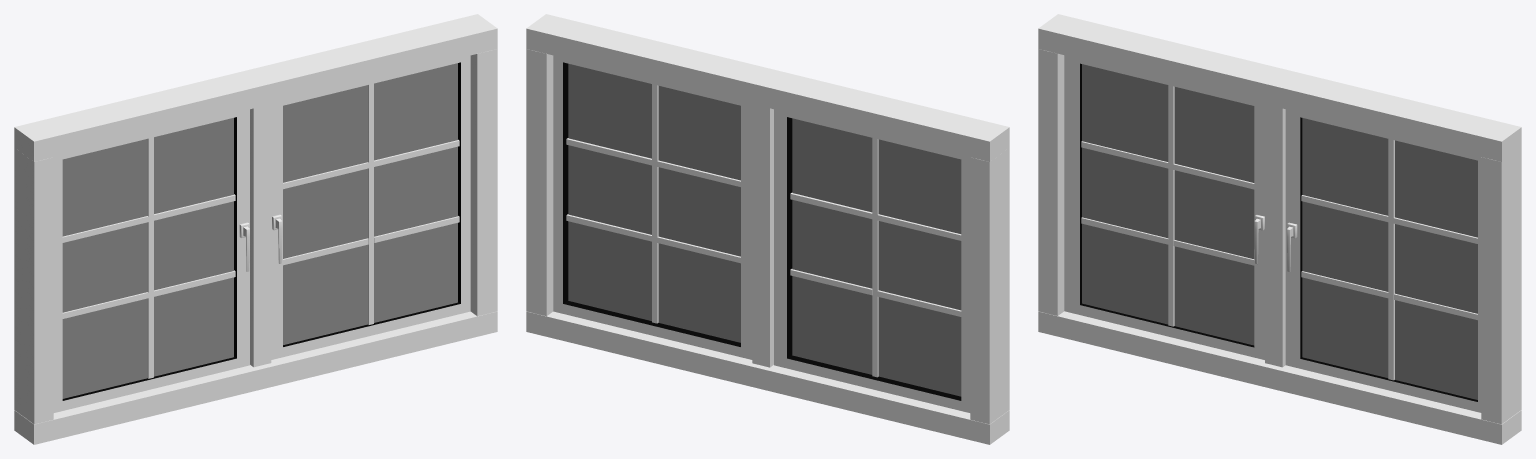
The model's file is Window.fbx.
3 renders of one model, left to right at view 1: azimuth 30°, elevation 25°; view 2: azimuth 150°, elevation 25°; view 3: azimuth 330°, elevation 25°, orthographic.
Visible parts, largest first — view 1: Window frame, Window B, Window A; view 2: Window frame, Window B, Window A; view 3: Window frame, Window A, Window B.
Boxes of the visible parts, box(x1,y1,x2,y2) form: Window frame: box(14, 14, 497, 444); Window B: box(271, 55, 470, 359); Window A: box(53, 109, 249, 412); Window frame: box(526, 14, 1009, 444); Window B: box(553, 55, 752, 359); Window A: box(774, 109, 970, 412); Window frame: box(1038, 14, 1521, 444); Window A: box(1064, 55, 1264, 359); Window B: box(1285, 109, 1481, 412).
Bounding box in the file's own units: 206 × 129 × 15.29.
Materials: 2 (1 with a texture image).
